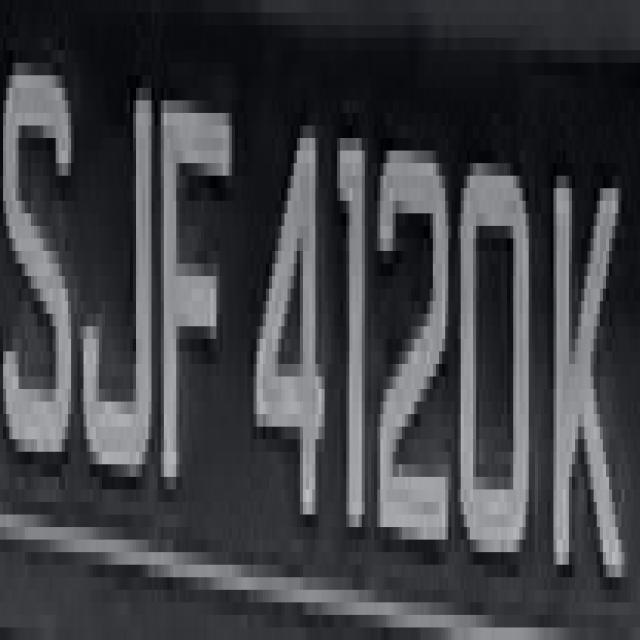0: (461, 113, 535, 565)
1: (337, 88, 368, 540)
2: (380, 113, 458, 615)
4: (257, 62, 334, 564)
F: (158, 63, 228, 502)
J: (80, 63, 158, 502)
K: (547, 150, 628, 628)
S: (0, 51, 74, 490)
